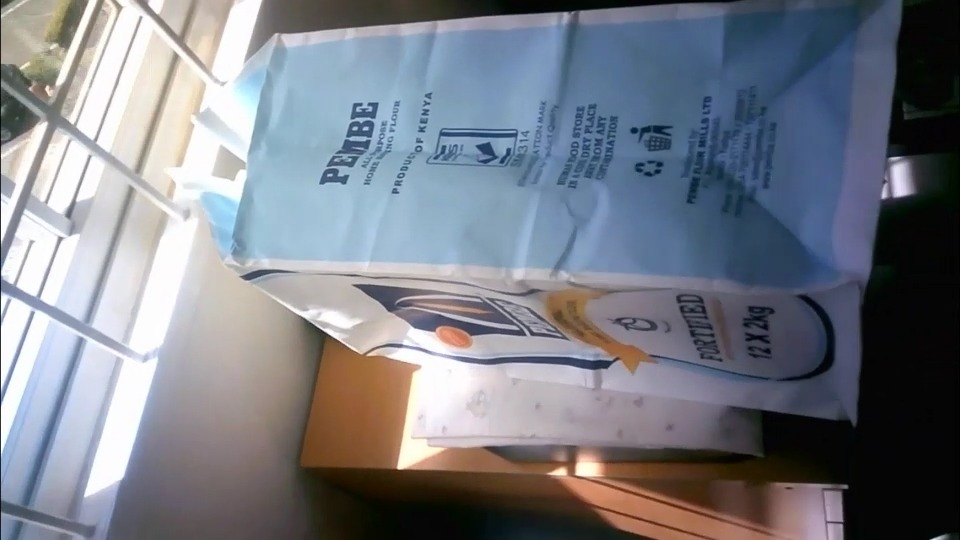wheat_flour_blue_label: (212, 2, 908, 422)
